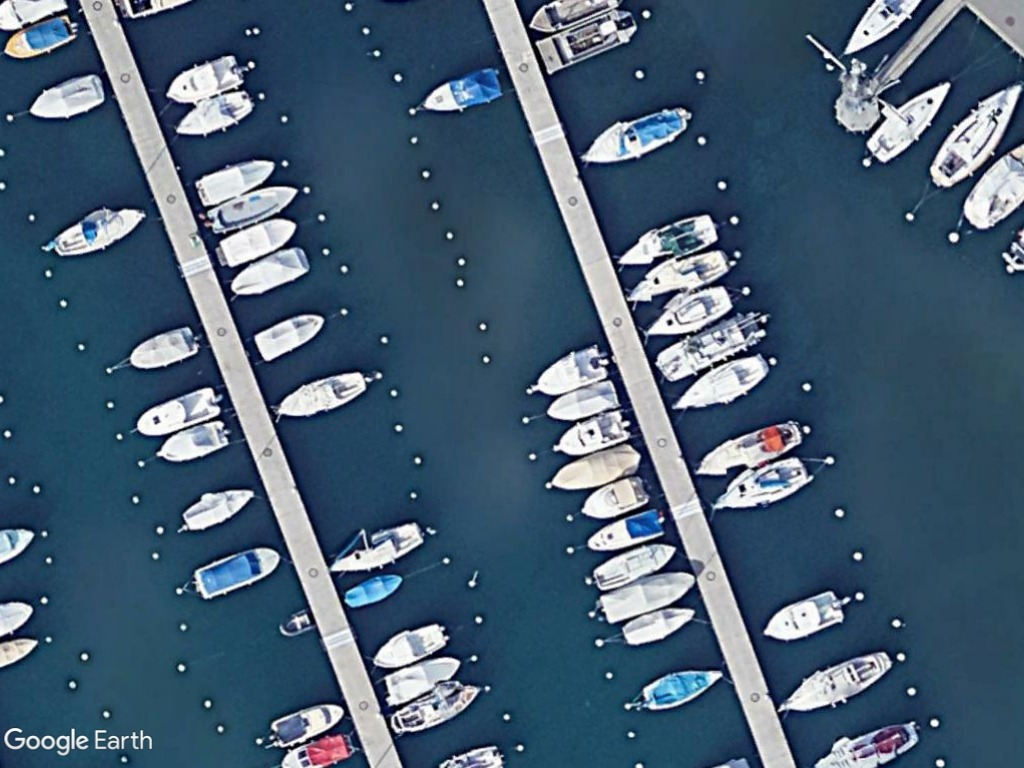boat: (923, 79, 1023, 188), (866, 77, 955, 163), (776, 649, 893, 714), (578, 105, 693, 168), (693, 418, 805, 481), (670, 351, 775, 415), (614, 211, 722, 271), (709, 453, 810, 516), (47, 202, 149, 262), (628, 247, 732, 305), (328, 518, 427, 576), (598, 568, 699, 623), (642, 281, 732, 341), (812, 718, 919, 768), (134, 384, 223, 441), (390, 681, 482, 736), (549, 440, 642, 494), (760, 587, 847, 644), (203, 183, 300, 234), (275, 367, 369, 419), (189, 548, 281, 601), (228, 243, 311, 299), (525, 342, 611, 396), (193, 154, 280, 207), (586, 504, 669, 559), (590, 540, 676, 593), (379, 653, 463, 707), (172, 89, 259, 141), (215, 217, 299, 270), (163, 50, 247, 103), (551, 405, 632, 458), (2, 9, 80, 63), (264, 698, 344, 750), (27, 72, 108, 123), (368, 619, 448, 670), (419, 67, 502, 116), (638, 666, 724, 713), (181, 484, 255, 537), (578, 472, 654, 523), (125, 323, 200, 373), (251, 313, 326, 363), (620, 603, 697, 651), (154, 418, 229, 467), (543, 378, 620, 423), (339, 572, 402, 610)
